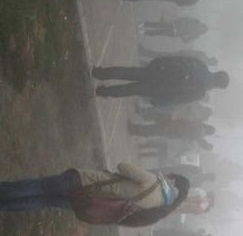person: (1, 163, 193, 228), (91, 56, 227, 103), (126, 118, 216, 142), (136, 13, 208, 41), (129, 100, 216, 123), (134, 136, 213, 161), (137, 43, 219, 67), (150, 164, 217, 185), (175, 197, 214, 216), (186, 188, 216, 198)
